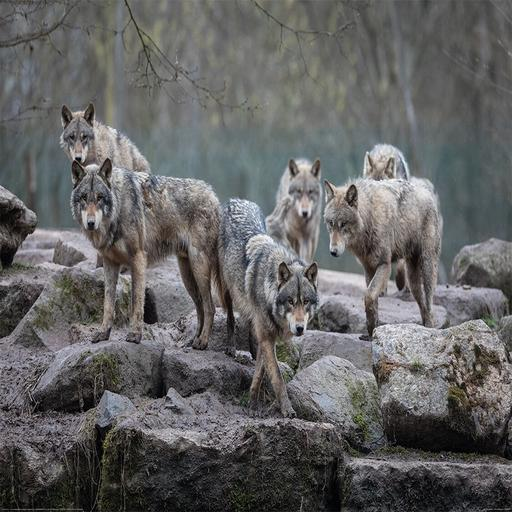Wolf: (63, 156, 224, 346), (199, 190, 323, 419), (316, 174, 448, 336), (58, 100, 168, 265), (356, 138, 440, 296), (244, 153, 328, 294)
